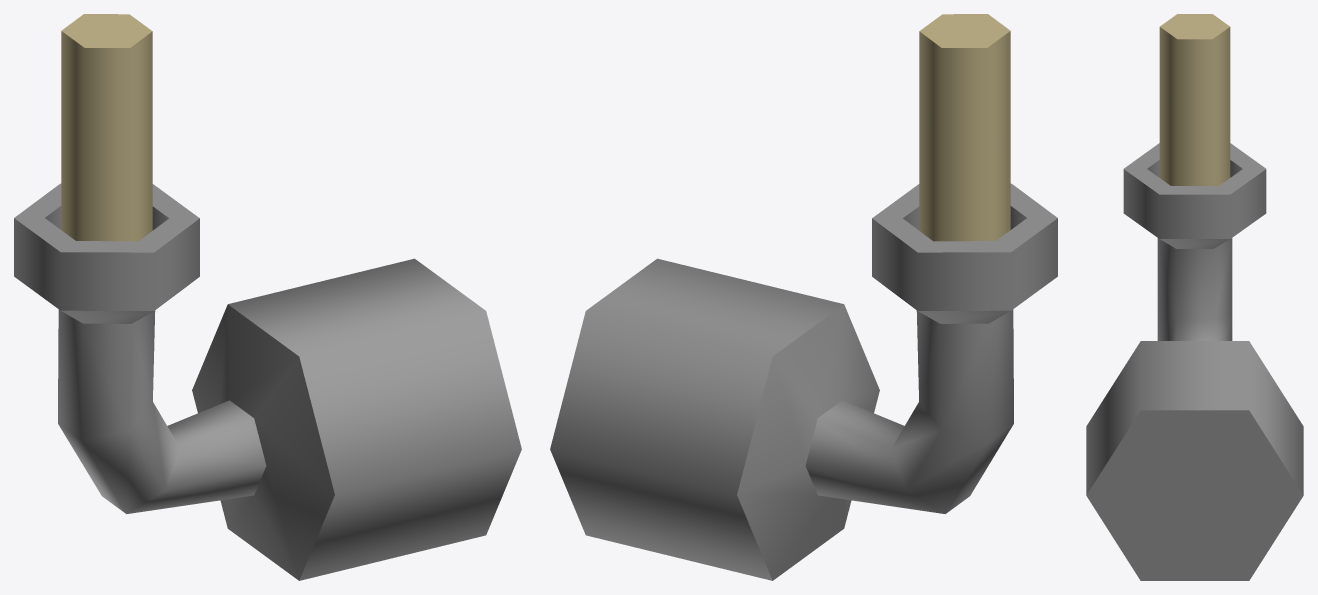
The model's file is Dest_Palace_Candle.FBX.
The picture shows the model from 3 angles, left to right: view 1: azimuth 30°, elevation 25°; view 2: azimuth 150°, elevation 25°; view 3: azimuth 270°, elevation 25°; orthographic projection. The views are drawn at different scales.
Parts seen in each view (by area): view 1: Cylinder003; view 2: Cylinder003; view 3: Cylinder003.
Part boxes in pixels (x1,y1,x2,y2): Cylinder003: (14, 14, 521, 580); Cylinder003: (550, 14, 1057, 580); Cylinder003: (1086, 14, 1303, 580).
Bounding box in the file's own units: 53.78 × 69.92 × 32.24.
